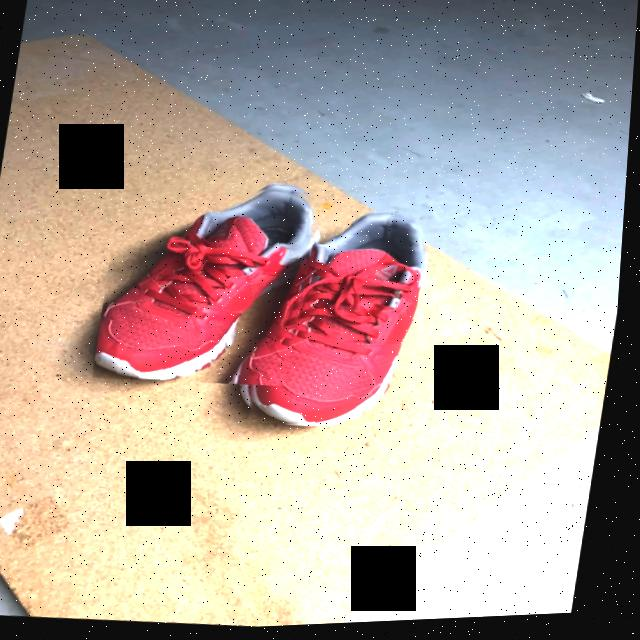shoe: (99, 193, 318, 383), (256, 218, 428, 427)
